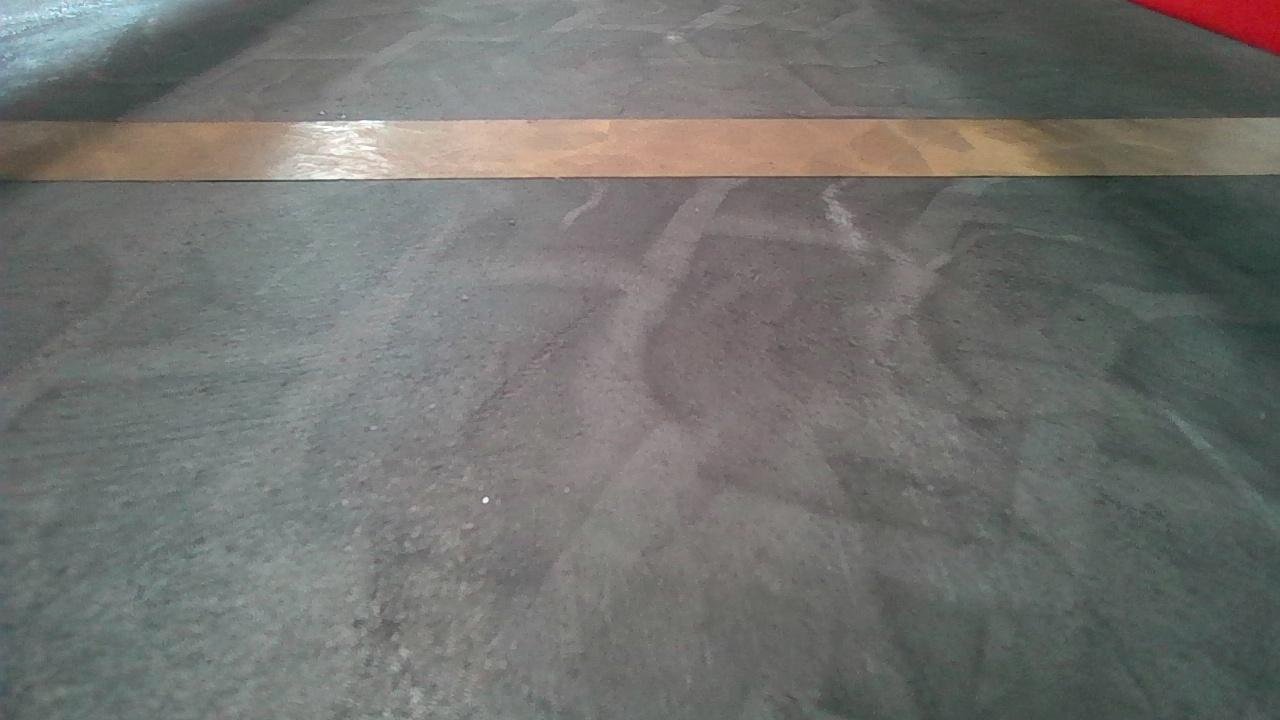yellow_line: (5, 105, 1276, 182)
